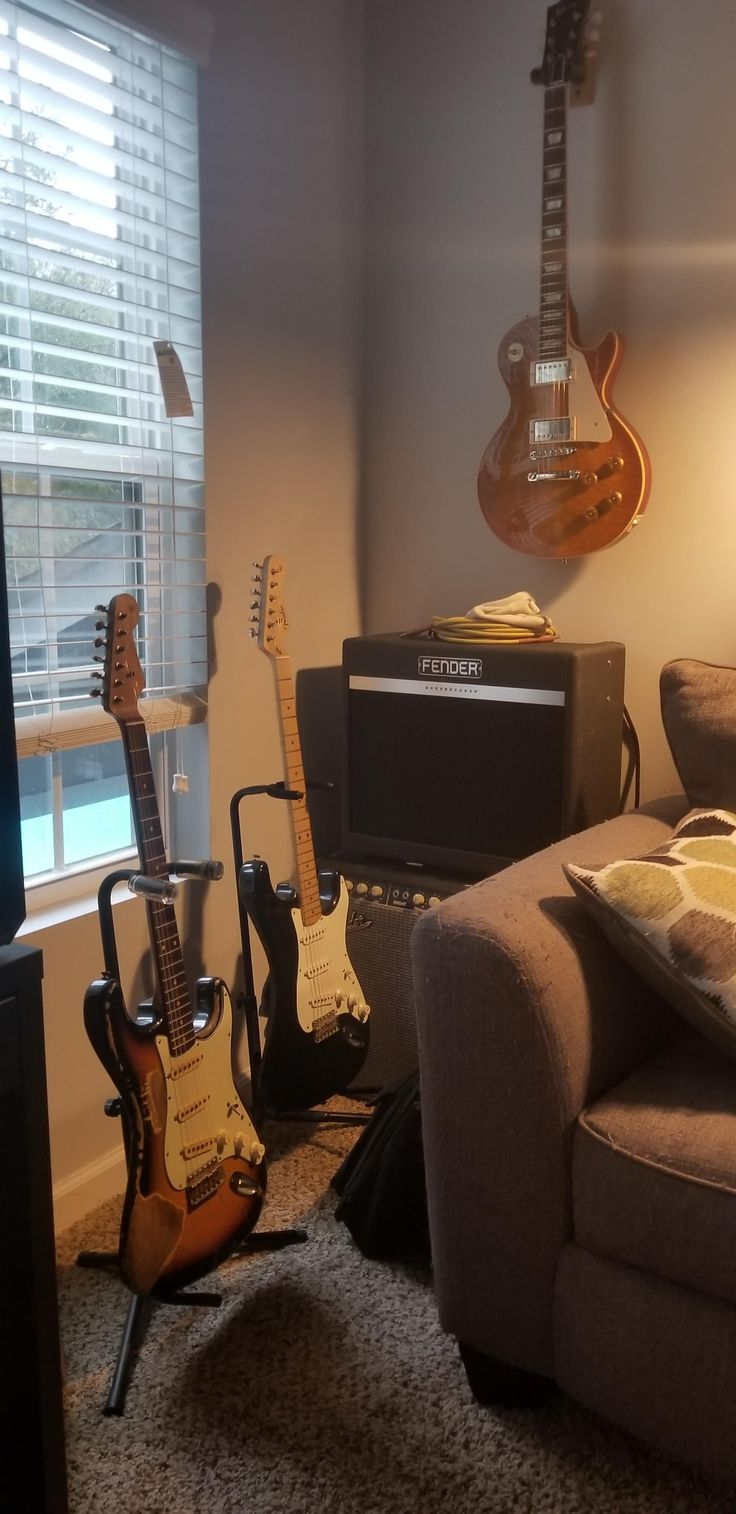acousticguitar: (79, 586, 269, 1320), (472, 2, 656, 560), (244, 551, 372, 1116)
